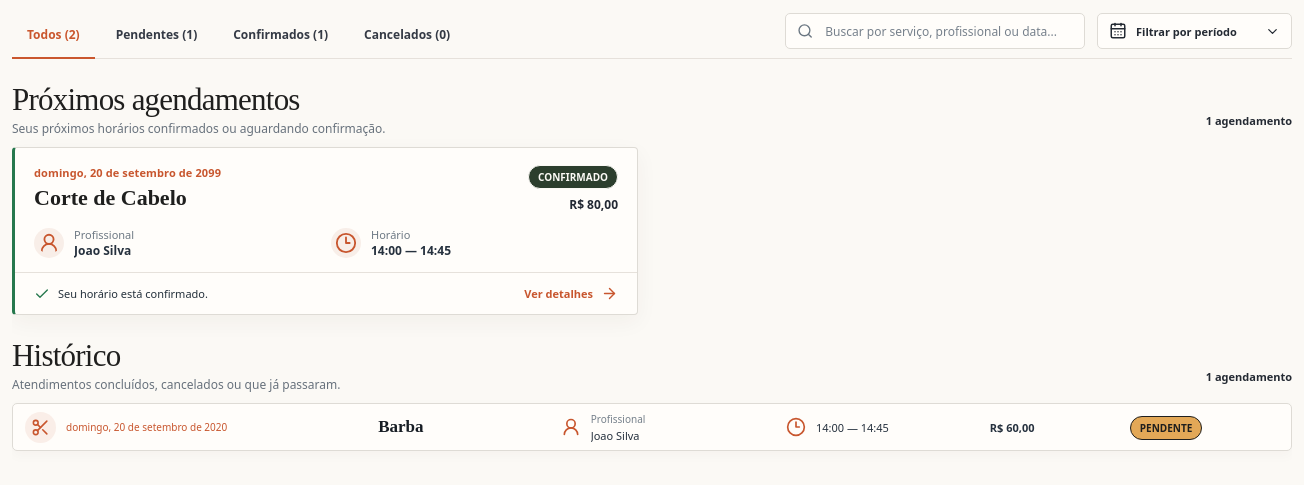
Test: ClientAppointmentsPage › filters real appointments by status and search without showing history detail actions
Expected: the button "Confirmados (1)" is shown, [218,12,343,58]
Expected: the heading "Barba" is shown, [378,417,423,436]
Click the button "Pendentes (1)" at (156, 35), box [101,12,212,58]
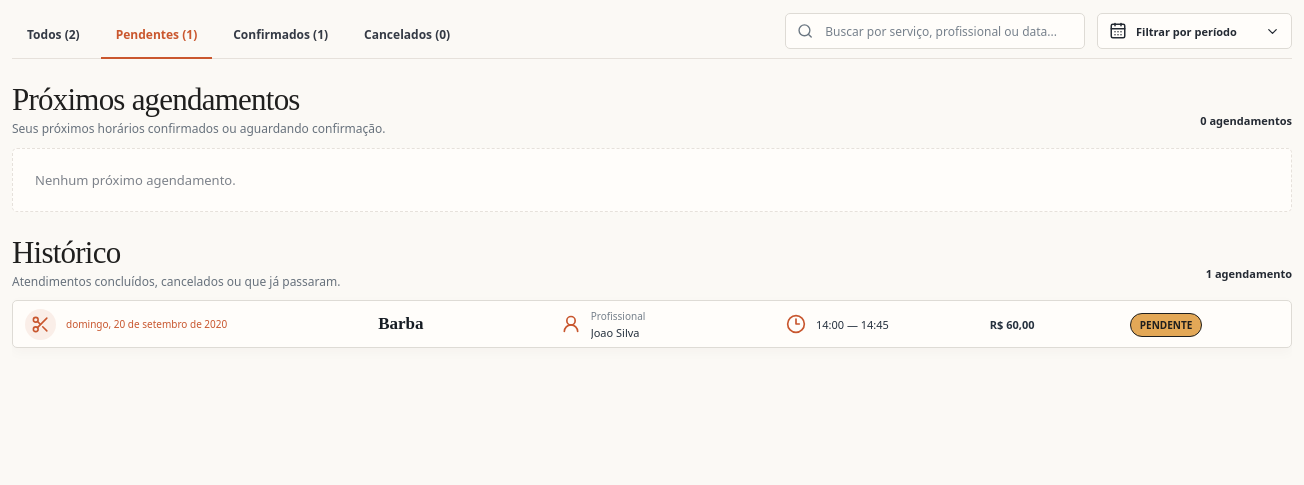
Expected: the heading "Barba" is shown, [378,314,423,333]
Expected: the heading "Corte de Cabelo" is gone
Expected: the button "Ver detalhes" is gone
Click the button "Todos (2)" at (53, 35), box [12,12,95,58]
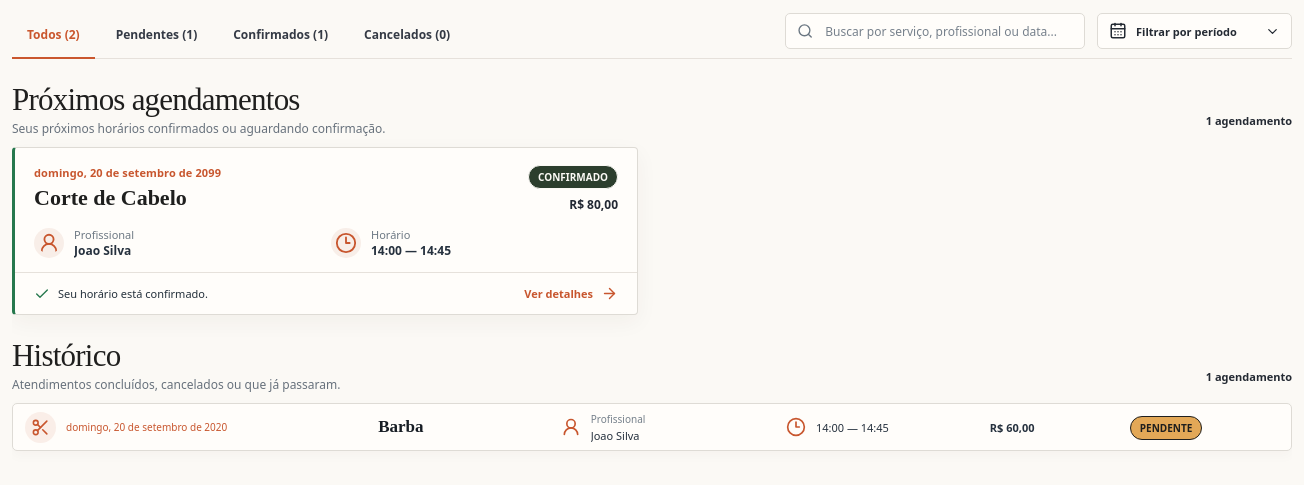
Type "corte" into the search field named "Buscar agendamentos" at (948, 31), box [823,22,1073,40]
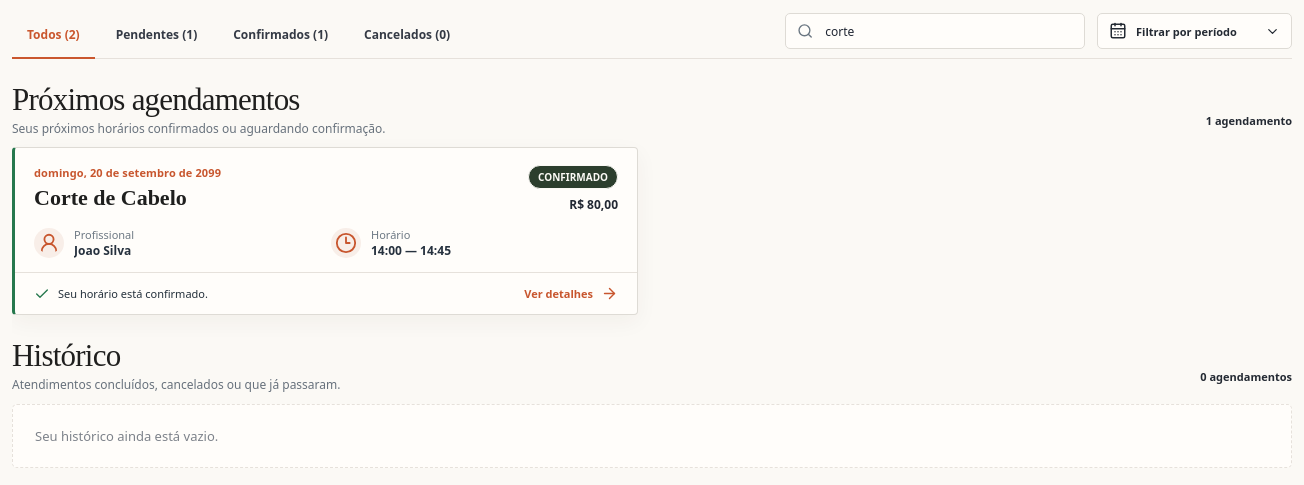
Expected: the heading "Corte de Cabelo" is shown, [34,185,187,210]
Expected: the heading "Barba" is gone
